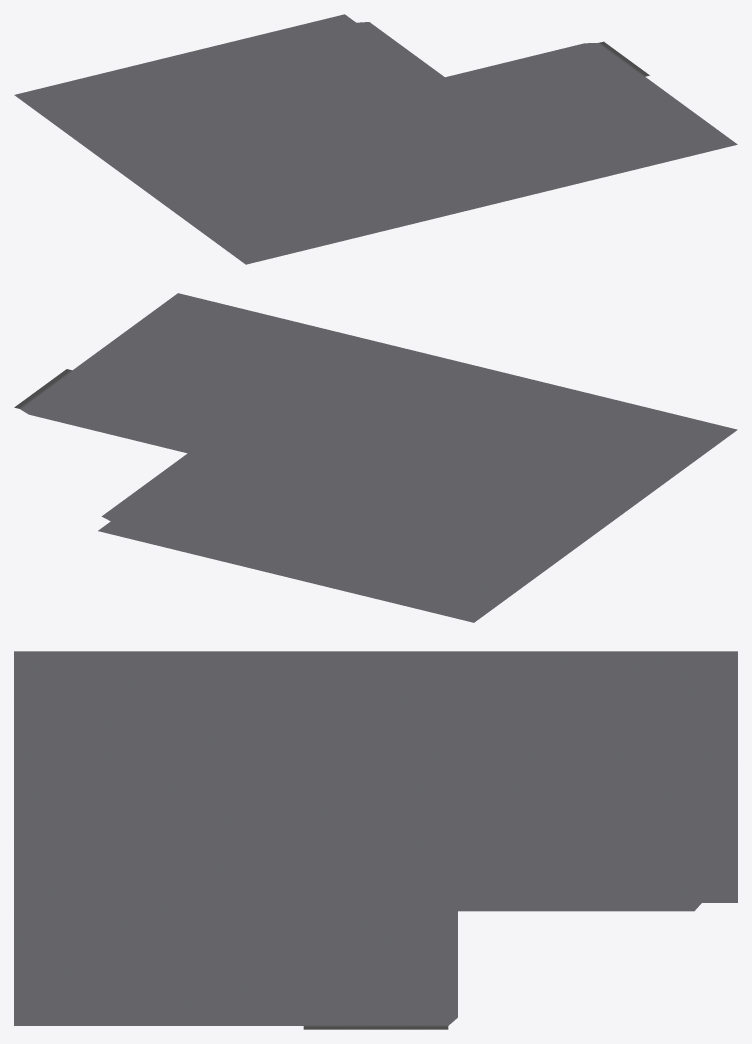
The model's file is Engineering_Floor.fbx.
3 renders of one model, top to bottom at view 1: azimuth 30°, elevation 25°; view 2: azimuth 150°, elevation 25°; view 3: azimuth 270°, elevation 25°, orthographic. The views are drawn at different scales.
Parts seen in each view (by area): view 1: Engineering_Floor; view 2: Engineering_Floor; view 3: Engineering_Floor.
Part boxes in pixels (x1,y1,x2,y2): Engineering_Floor: (14, 14, 737, 264); Engineering_Floor: (14, 293, 737, 622); Engineering_Floor: (14, 651, 737, 1029).
Bounding box in the file's own units: 4950 × 0.000882 × 4000.
